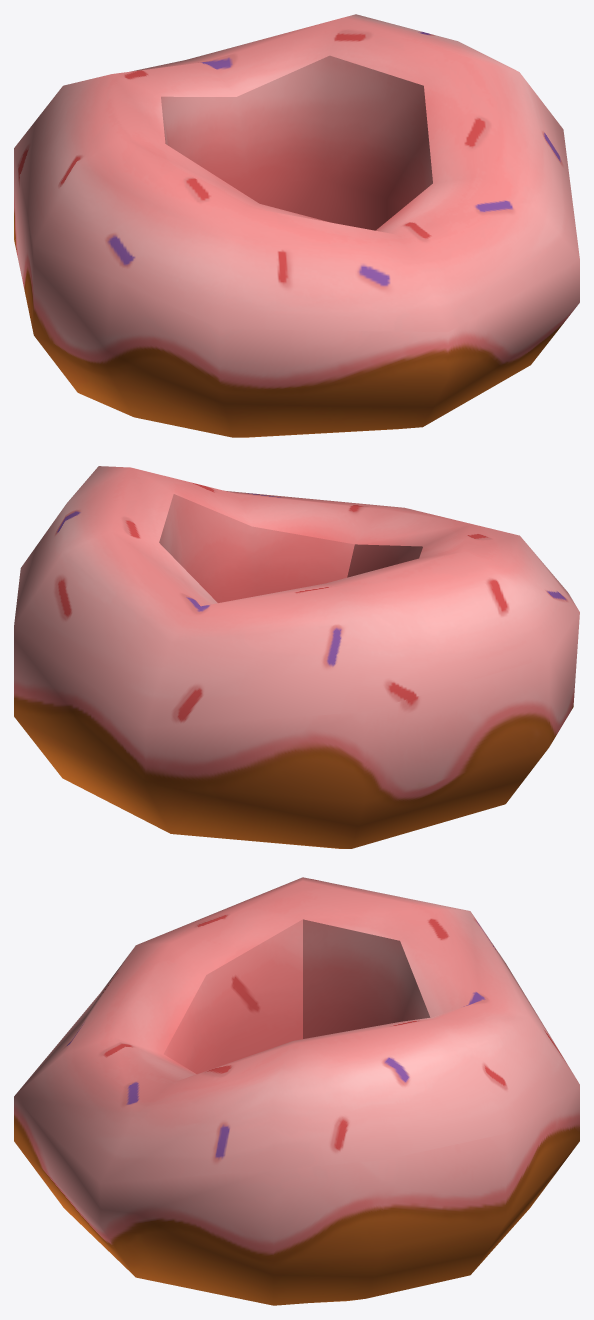
File: donut.FBX
3 views of the same model, one above another, from view 1: azimuth 30°, elevation 25°; view 2: azimuth 150°, elevation 25°; view 3: azimuth 270°, elevation 25° (orthographic).
Parts seen in each view (by area): view 1: donut; view 2: donut; view 3: donut.
Part boxes in pixels (x1,y1,x2,y2): donut: [14, 14, 579, 437]; donut: [14, 466, 579, 848]; donut: [14, 877, 579, 1305].
Size of the model in its own units: 4.26 by 2.1 by 4.12.
